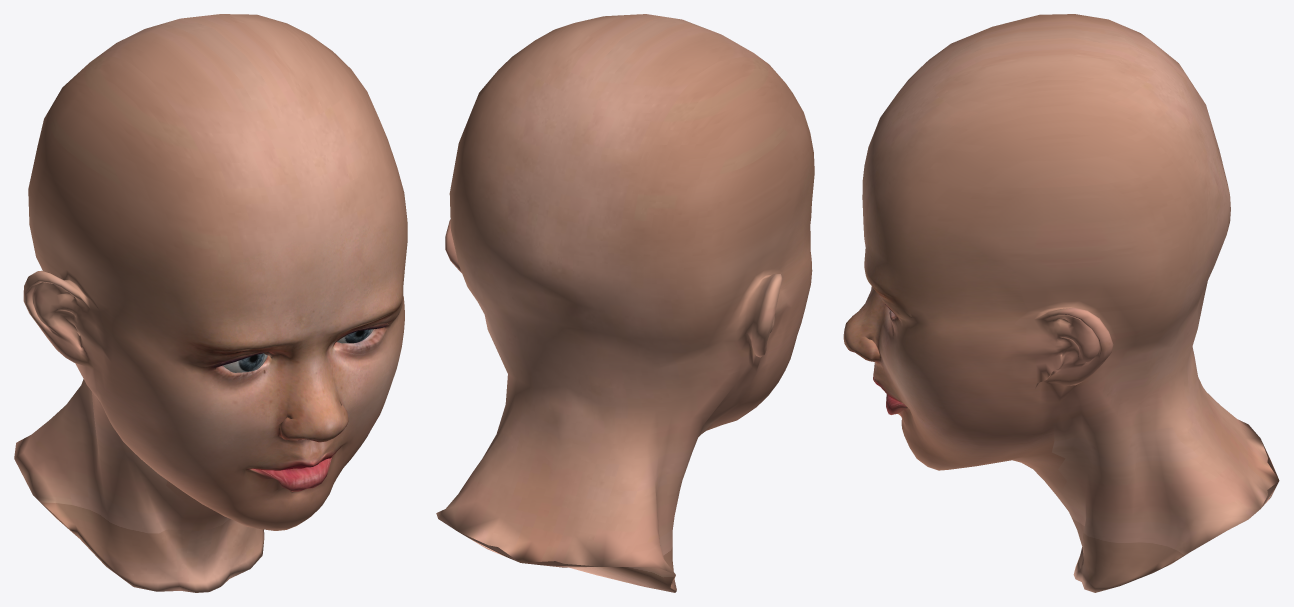
Rendered from Luck.fbx.
The picture shows the model from 3 angles, left to right: view 1: azimuth 30°, elevation 25°; view 2: azimuth 150°, elevation 25°; view 3: azimuth 270°, elevation 25°; orthographic projection. The views are drawn at different scales.
Visible parts, largest first — view 1: Anakin, Eye01.Eye; view 2: Anakin; view 3: Anakin.
Boxes of the visible parts, left/top/right/bottom form: Anakin: left=14, top=14, right=407, bottom=592; Eye01.Eye: left=223, top=353, right=267, bottom=372; Anakin: left=436, top=14, right=814, bottom=592; Anakin: left=843, top=14, right=1279, bottom=592.
Bounding box in the file's own units: 470 × 741 × 543.
3 materials, 3 textured.
